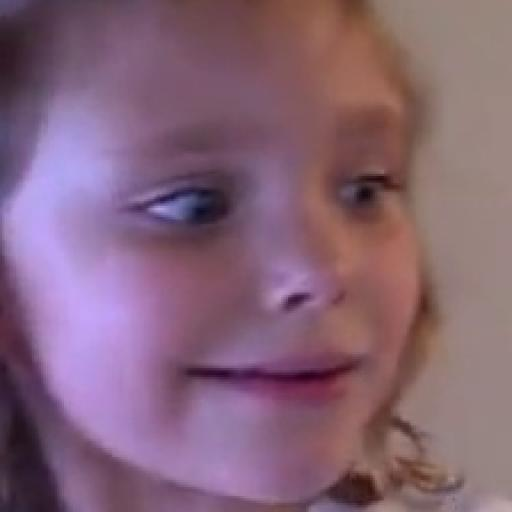Autism: (0, 0, 466, 512)
